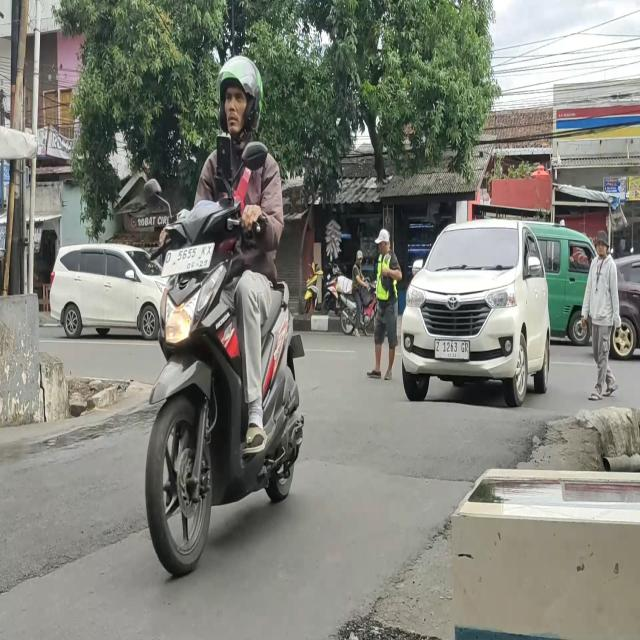helmet: (215, 58, 262, 144)
no-helmet: (354, 248, 365, 264)
